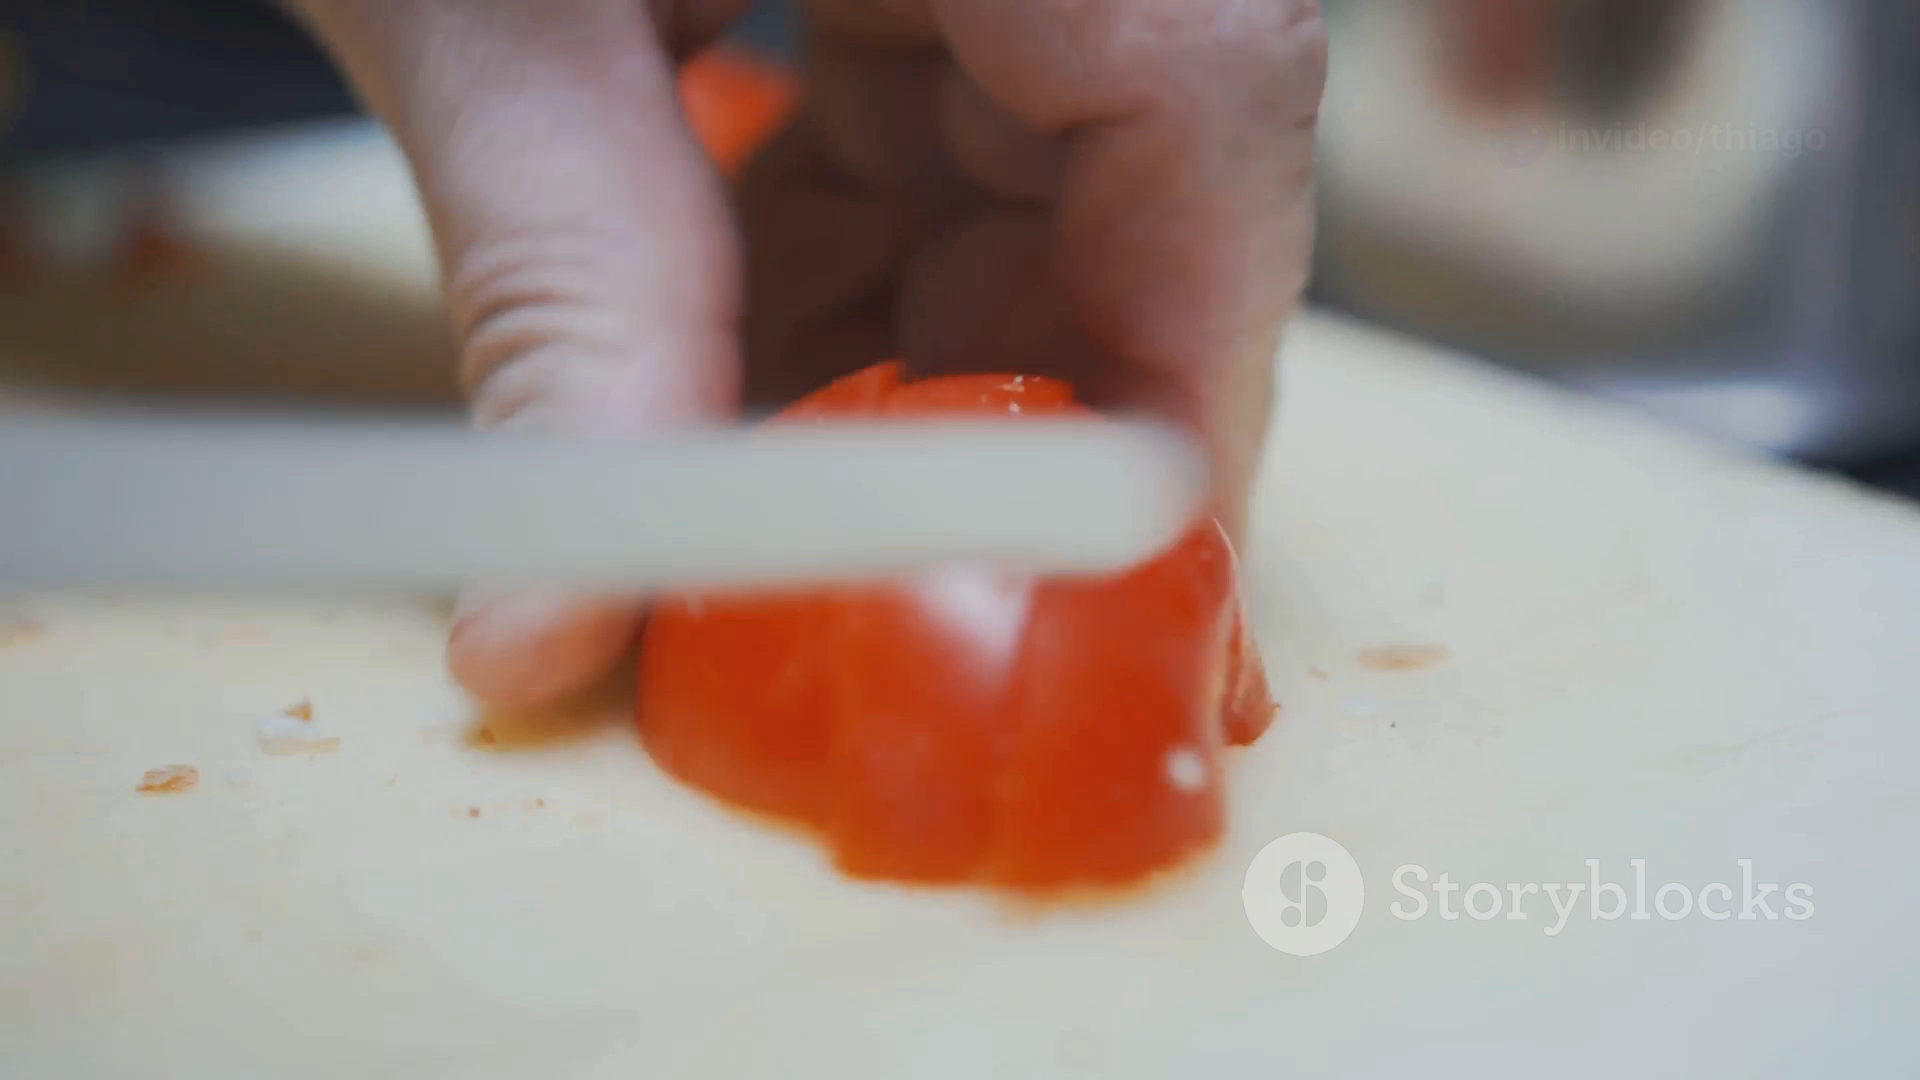cortante: (0, 414, 1209, 595)
